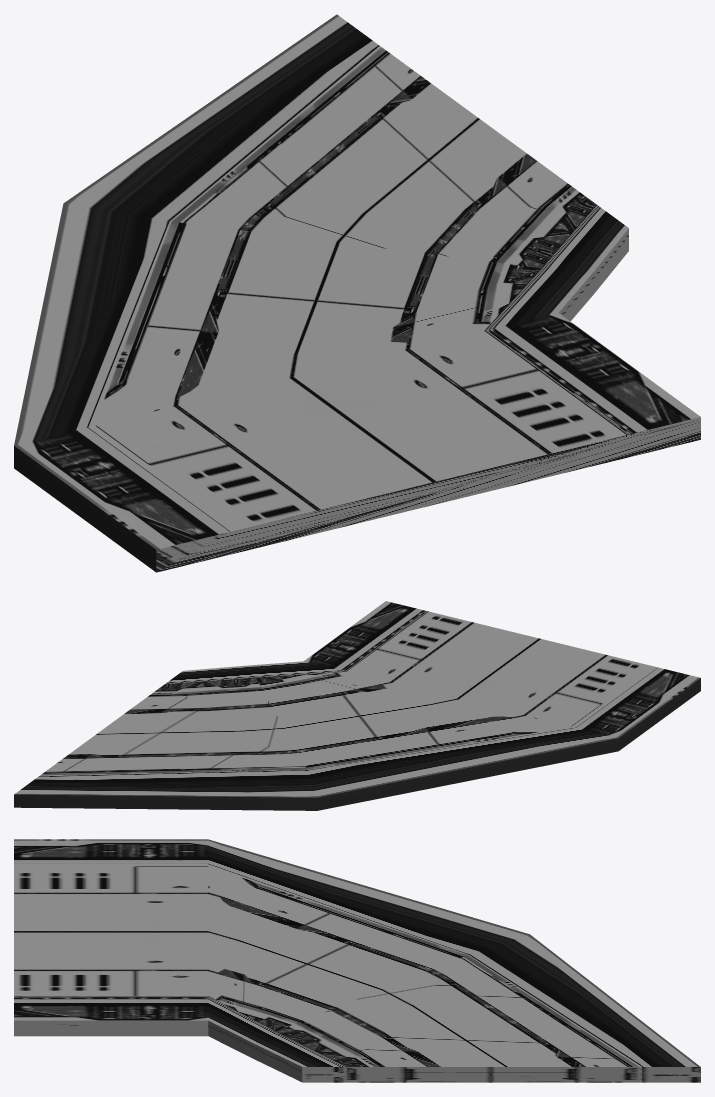
File: JustRoadTrunRight.fbx
3 views of the same model, one above another, from view 1: azimuth 30°, elevation 25°; view 2: azimuth 150°, elevation 25°; view 3: azimuth 270°, elevation 25° (orthographic). The views are drawn at different scales.
Parts seen in each view (by area): view 1: Cube; view 2: Cube; view 3: Cube.
Part boxes in pixels (x1,y1,x2,y2): Cube: [14, 14, 700, 572]; Cube: [14, 601, 700, 810]; Cube: [14, 839, 700, 1082].
Size of the model in its own units: 1256 by 40 by 1602.
